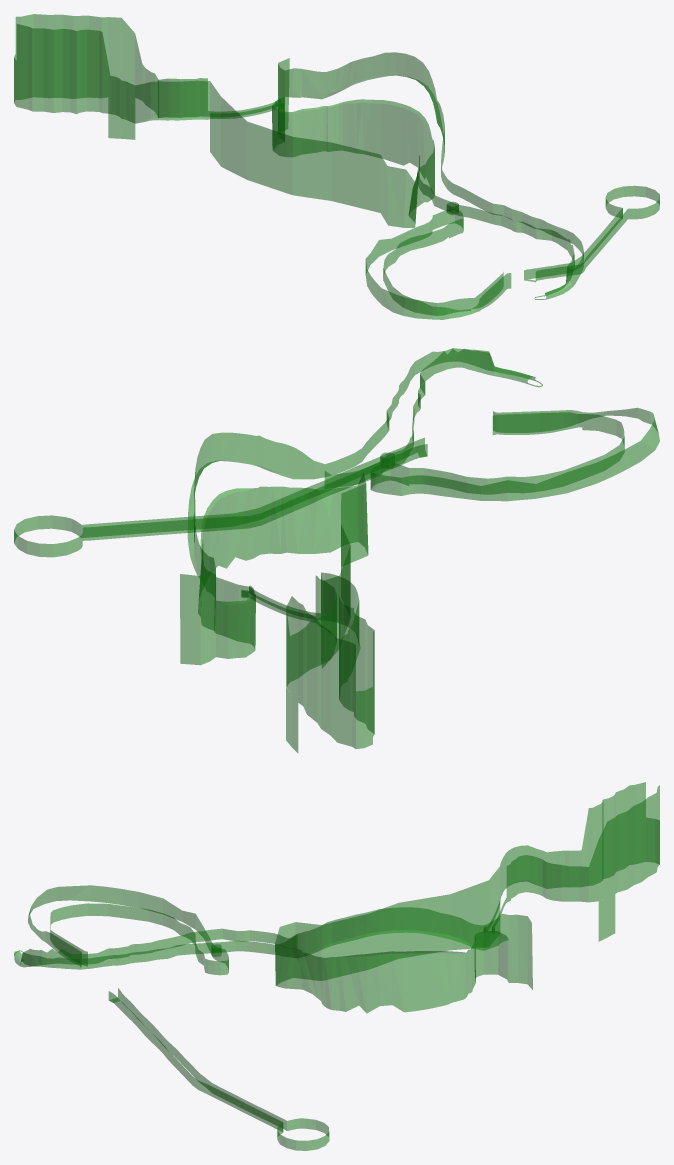
The model's file is D03_wall.obj.
3 views of the same model, one above another, from view 1: azimuth 30°, elevation 25°; view 2: azimuth 150°, elevation 25°; view 3: azimuth 270°, elevation 25° (orthographic). The views are drawn at different scales.
Bounding box in the file's own units: 478 × 158 × 605.
